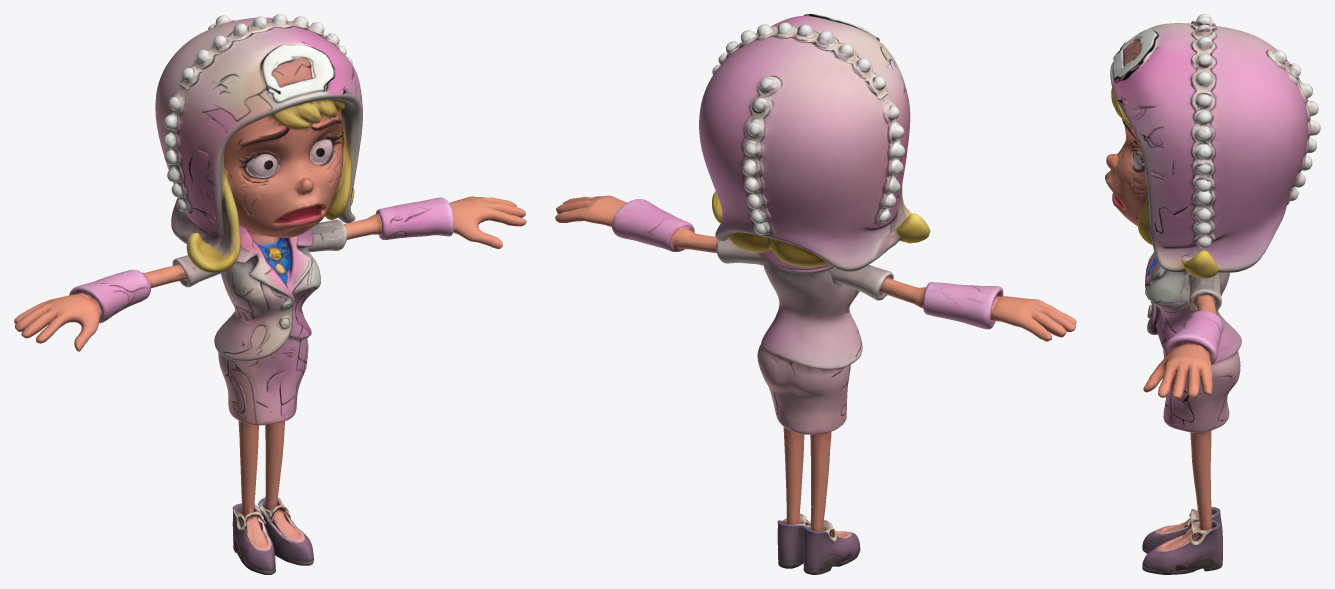
File: the_hoa_president.glb
3 renders of one model, left to right at view 1: azimuth 30°, elevation 25°; view 2: azimuth 150°, elevation 25°; view 3: azimuth 270°, elevation 25°, orthographic.
Parts seen in each view (by area): view 1: the_hoa_president; view 2: the_hoa_president; view 3: the_hoa_president.
Part boxes in pixels (bbox=[...]): the_hoa_president: bbox=[14, 14, 526, 574]; the_hoa_president: bbox=[555, 14, 1076, 574]; the_hoa_president: bbox=[1105, 14, 1320, 574].
Bounding box in the file's own units: 2.97 × 3 × 1.1.
1 material, 1 textured.
